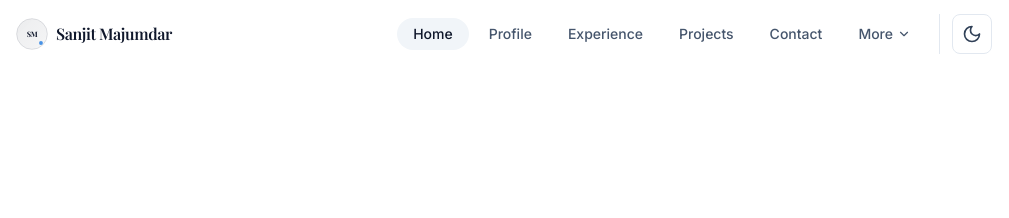
Test: TopNav (editorial + More dropdown) › "More" dropdown › Escape closes the "More" dropdown
Click the button "More" at (885, 34), box top-left (842, 18), bottom-right (927, 50)
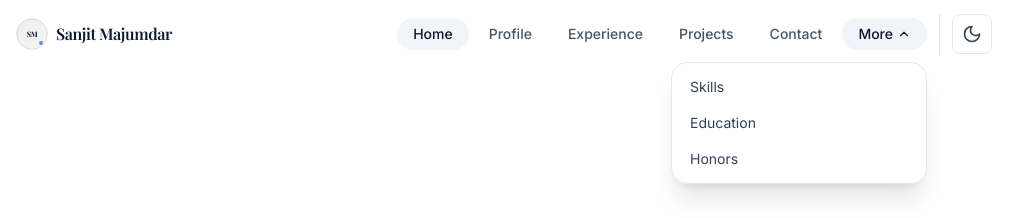
Expected: the button "More" is expanded, top-left (842, 18), bottom-right (927, 50)
Press Escape
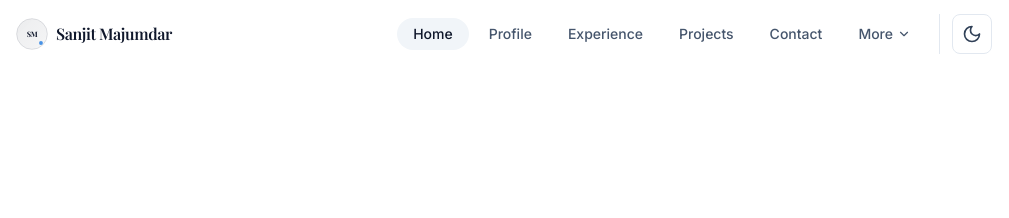
Expected: the button "More" is collapsed, top-left (842, 18), bottom-right (927, 50)
